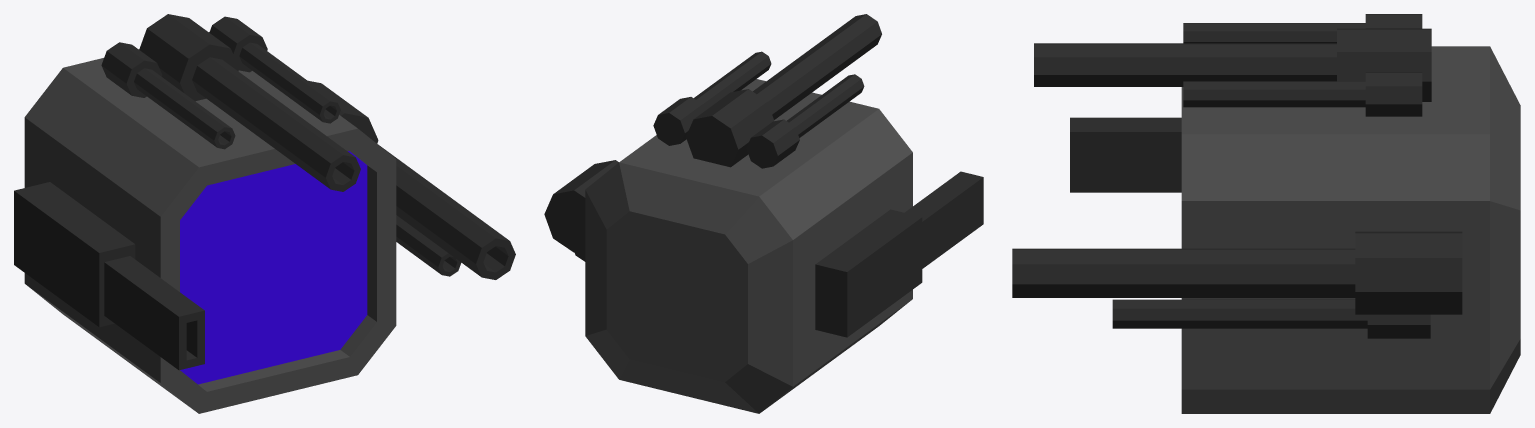
The model's file is Level3_AssaultBot.fbx.
3 renders of one model, left to right at view 1: azimuth 30°, elevation 25°; view 2: azimuth 150°, elevation 25°; view 3: azimuth 270°, elevation 25°, orthographic. The views are drawn at different scales.
Parts seen in each view (by area): view 1: Cube, Cube.001; view 2: Cube; view 3: Cube.
Boxes of the visible parts, box(x1,y1,x2,y2) form: Cube: box(14, 14, 515, 413); Cube.001: box(180, 151, 367, 384); Cube: box(544, 14, 983, 413); Cube: box(1012, 14, 1520, 413).
Size of the model in its own units: 915 by 793 by 1074.
